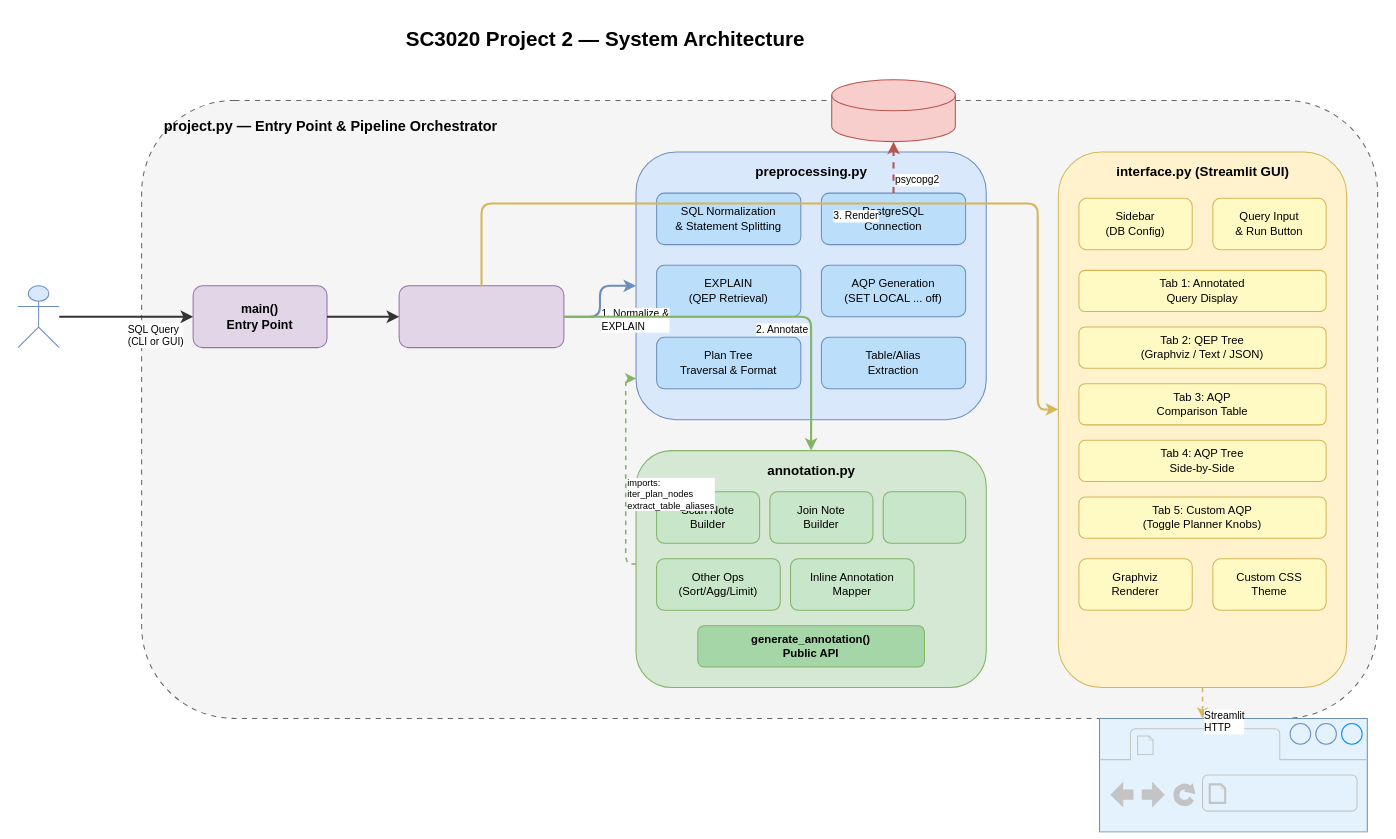
Some shapes in this 1396 by 839 pixel diagram are drawn without their labels. The box of each missing label's shape, as (x1, y1, x2, y2) in pixels:
Cost-Based Reasoning: (882, 491, 966, 543)
PostgreSQL Database (TPC-H): (831, 79, 955, 142)
run_pipeline() End-to-End Pipeline: (398, 285, 564, 348)
User: (17, 285, 59, 348)
Web Browser localhost:8501: (1098, 717, 1306, 821)
